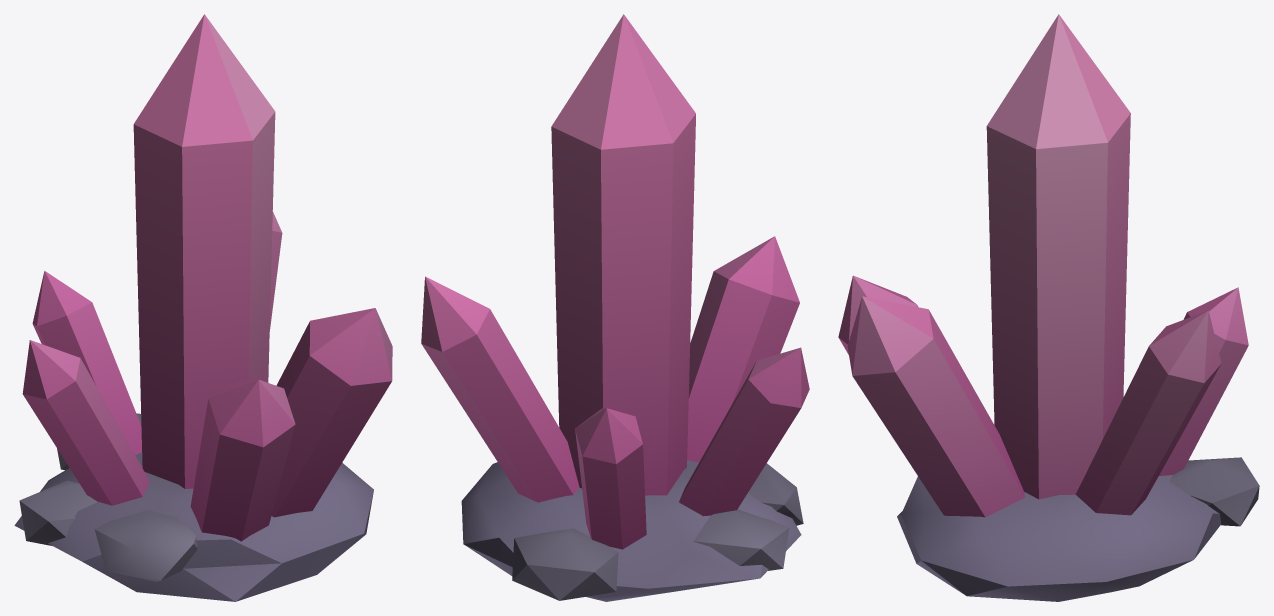
The model's file is crystal_pink.glb.
3 renders of one model, left to right at view 1: azimuth 30°, elevation 25°; view 2: azimuth 150°, elevation 25°; view 3: azimuth 270°, elevation 25°, orthographic. The views are drawn at different scales.
Parts seen in each view (by area): view 1: crystal_pink_glow, crystal_pink; view 2: crystal_pink_glow, crystal_pink; view 3: crystal_pink_glow, crystal_pink.
Boxes of the visible parts, bbox=[...] form: crystal_pink_glow: bbox=[22, 14, 392, 541]; crystal_pink: bbox=[14, 413, 373, 601]; crystal_pink_glow: bbox=[421, 14, 809, 549]; crystal_pink: bbox=[461, 460, 803, 601]; crystal_pink_glow: bbox=[838, 14, 1248, 517]; crystal_pink: bbox=[897, 457, 1259, 601].
Size of the model in its own units: 1.64 by 2.62 by 1.83.
